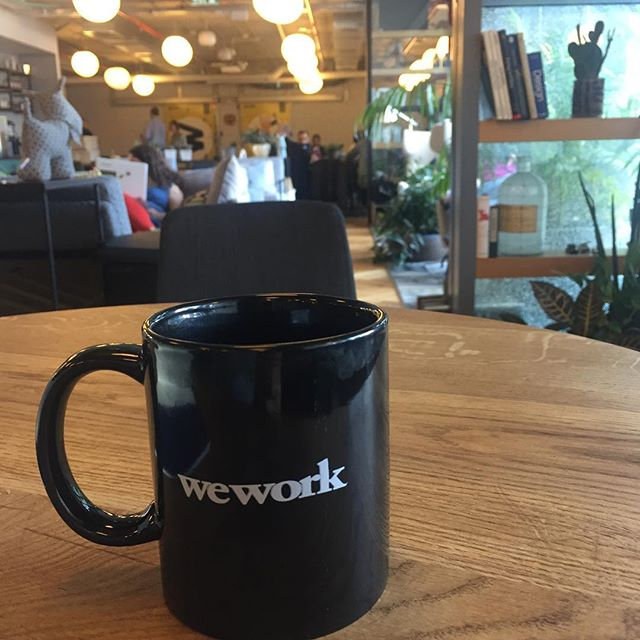wework: (173, 455, 352, 507)
